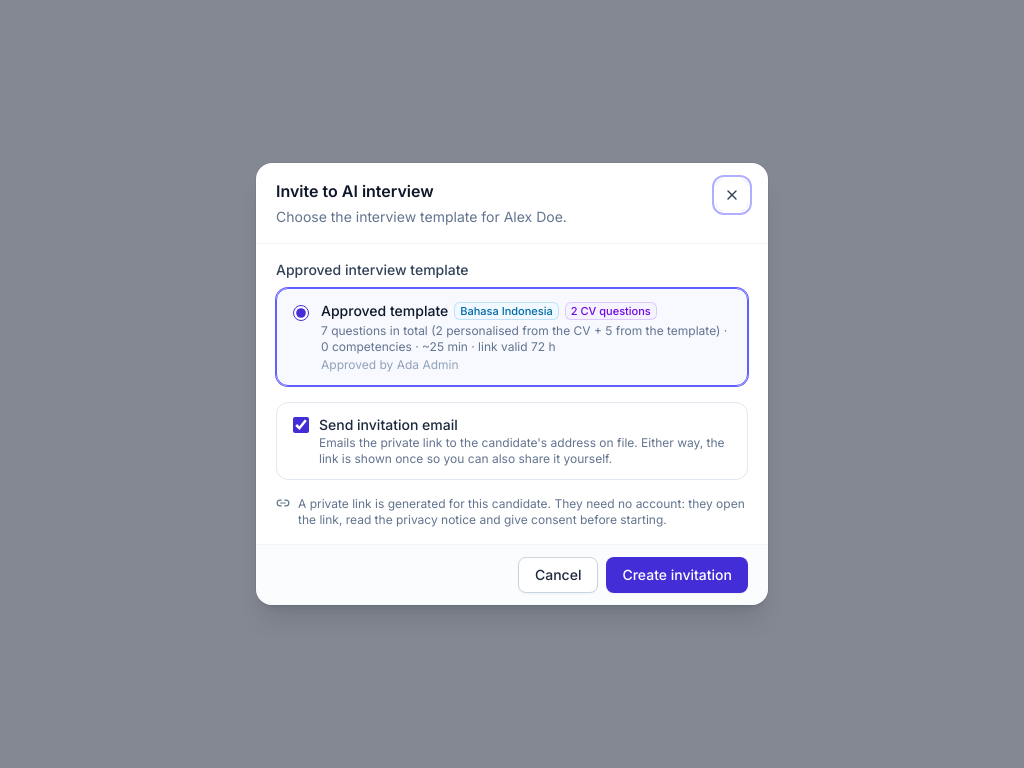
it: InviteCandidateDialog › can skip the invitation email
Click the checkbox labelled "Send invitation email". click: (301, 425)
box: [293, 417, 309, 433]
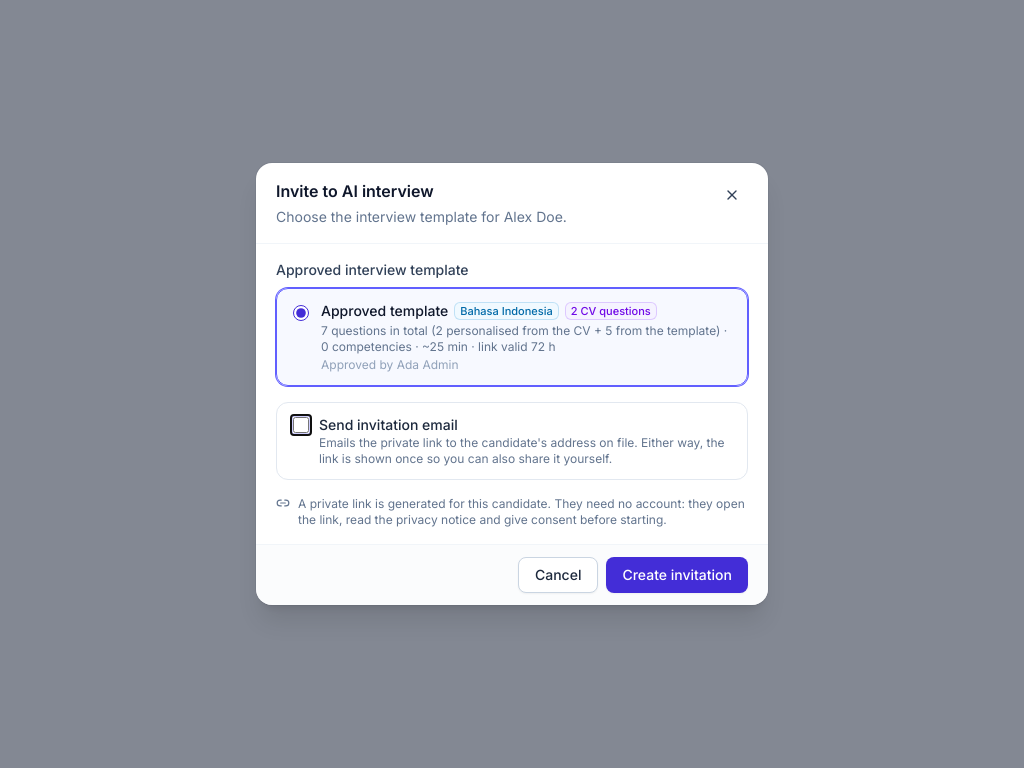
Click the button "Create invitation". click: (677, 575)
box: [606, 557, 748, 593]
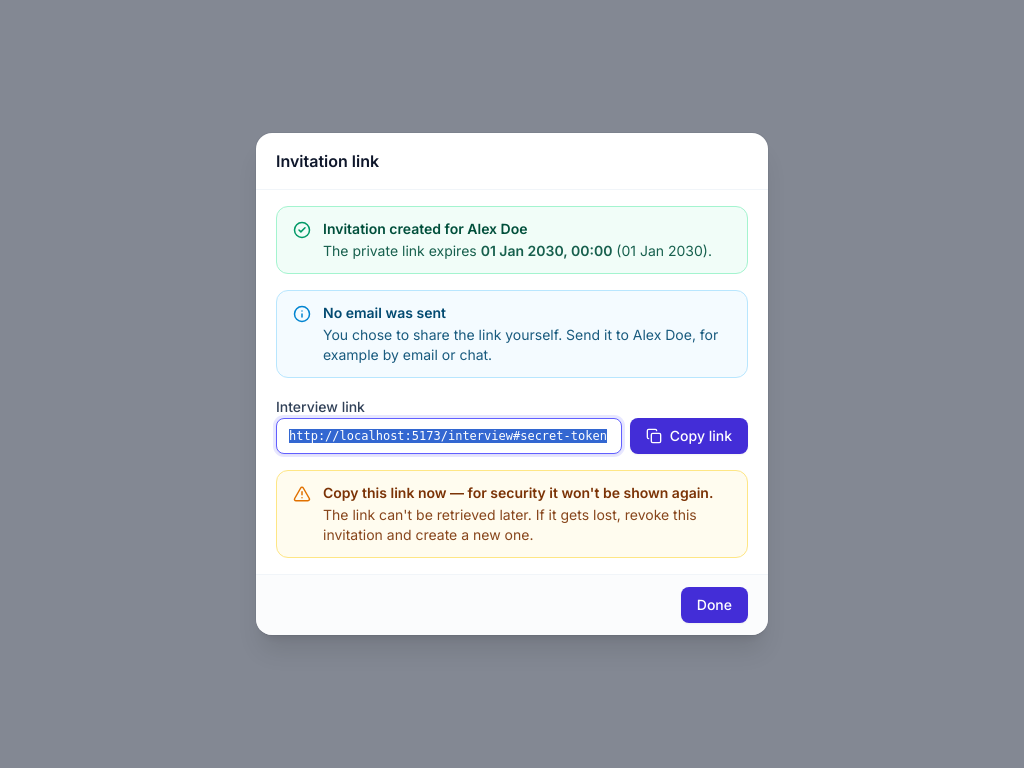
Result: the text "No email was sent" is shown at [323, 304, 446, 321]
Result: the field labelled "Interview link" holds "http://localhost:5173/interview#secret-token" at [276, 418, 622, 454]
